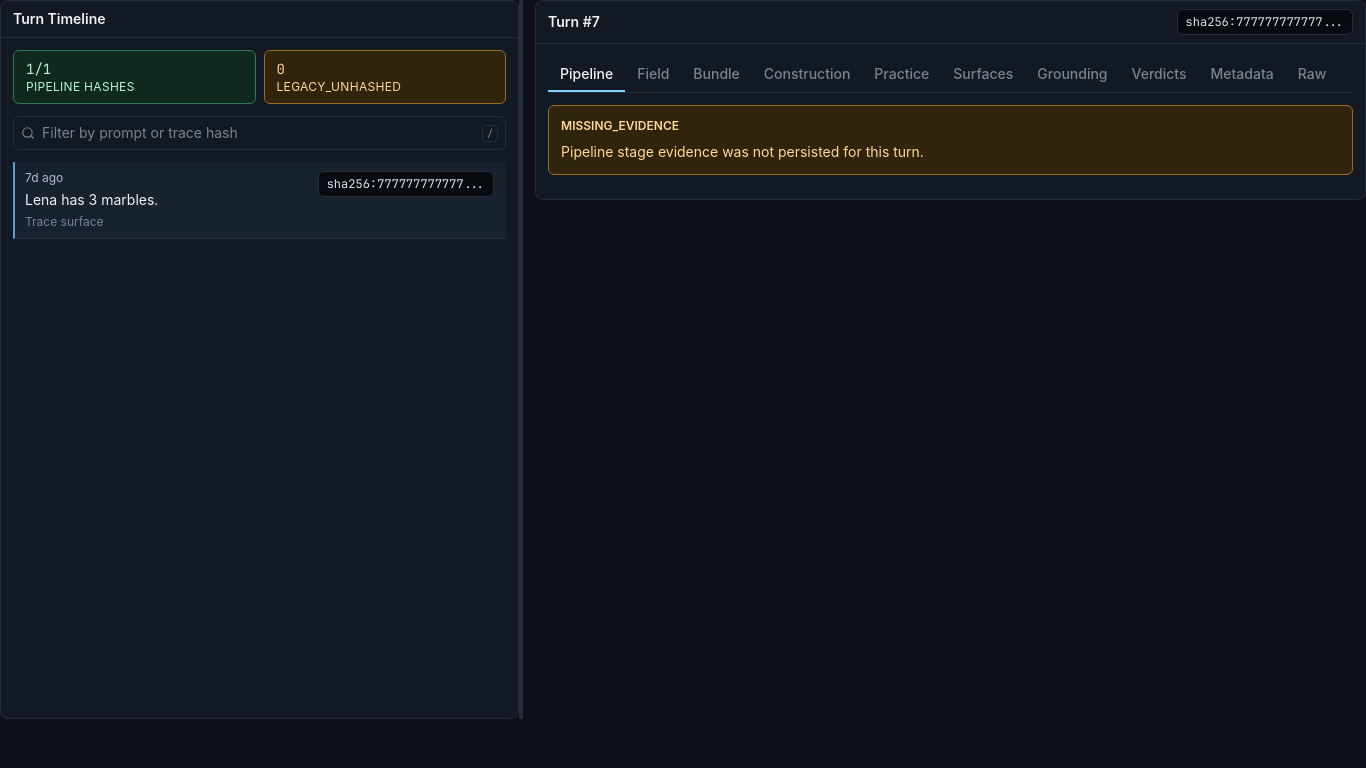
Scenario: TraceRoute construction tab › fetches construction evidence through the trace construction endpoint
Click the tab "Construction" at (807, 74), box [752, 56, 862, 92]
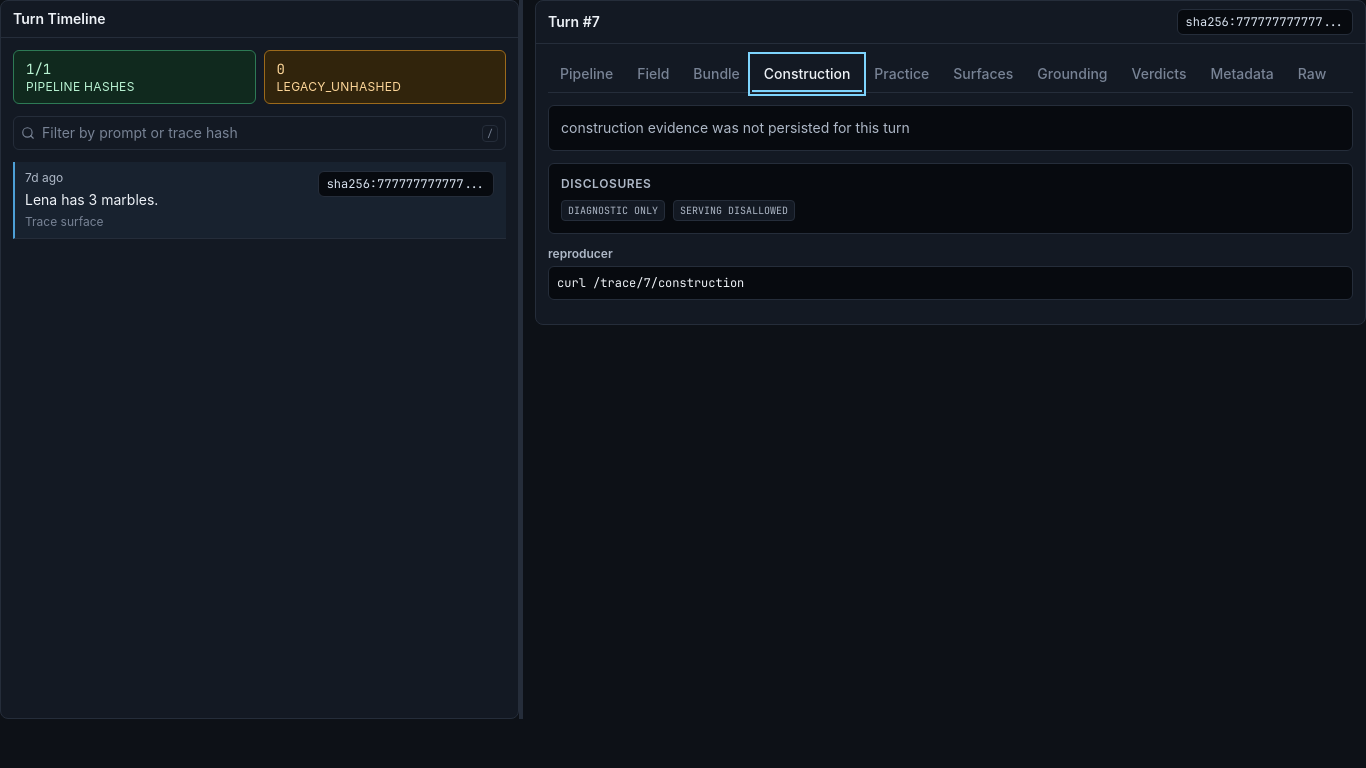
Now the text "construction evidence was not persisted for this turn" is shown, box [561, 119, 910, 136]
Now the text "Diagnostic Only" is shown, box [561, 200, 665, 221]
Now the text "Serving Disallowed" is shown, box [673, 200, 795, 221]
